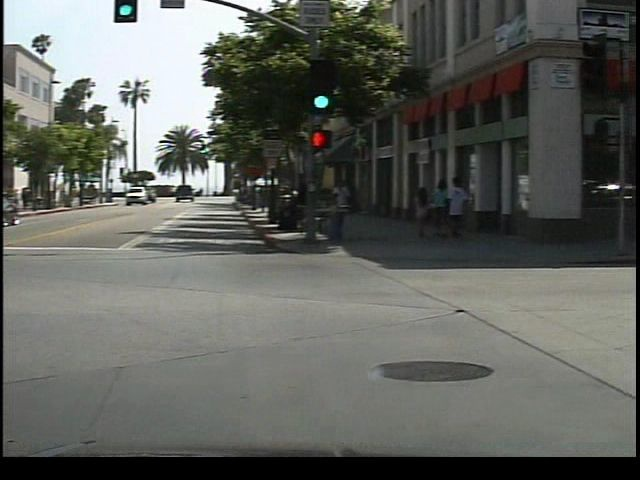person: (338, 175, 365, 232)
